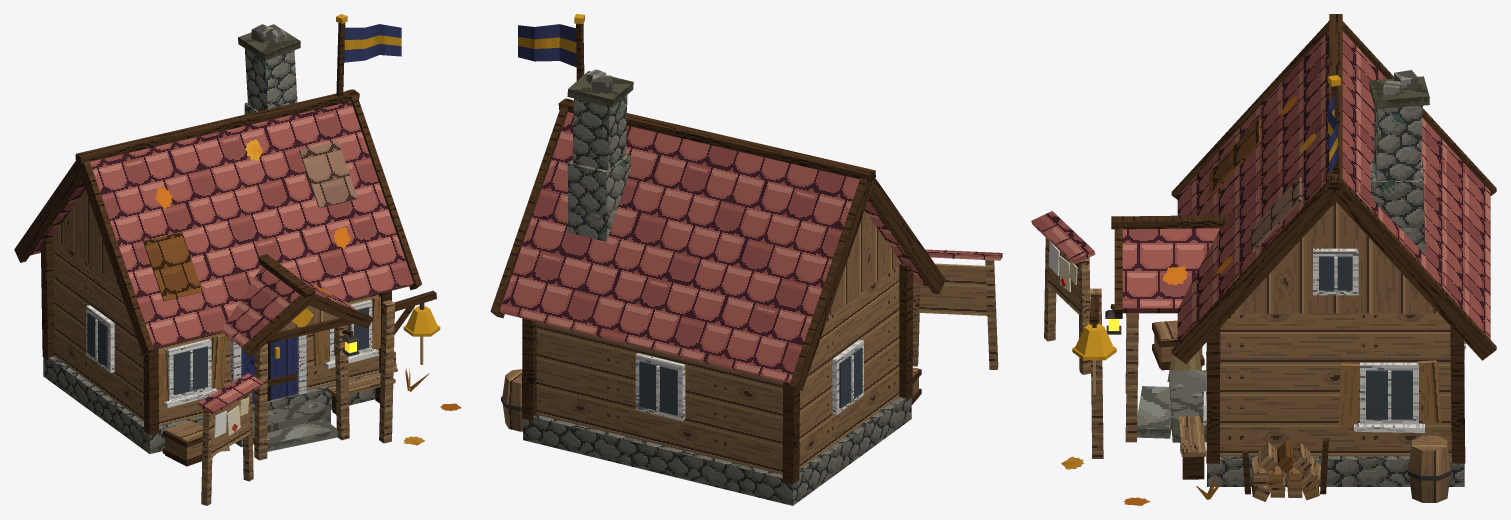
The model's file is town_center_1.glb.
The picture shows the model from 3 angles, left to right: view 1: azimuth 30°, elevation 25°; view 2: azimuth 150°, elevation 25°; view 3: azimuth 270°, elevation 25°; orthographic projection. The views are drawn at different scales.
Parts seen in each view (by area): view 1: town_center_1, sway_flag, sway_bell; view 2: town_center_1, sway_flag; view 3: town_center_1, sway_bell, sway_flag.
Part boxes in pixels (x1,y1,x2,y2): town_center_1: (14, 14, 461, 505); sway_flag: (344, 24, 401, 62); sway_bell: (403, 303, 440, 364); town_center_1: (490, 14, 1002, 505); sway_flag: (518, 24, 576, 67); town_center_1: (1031, 14, 1496, 505); sway_bell: (1072, 323, 1116, 394); sway_flag: (1328, 93, 1337, 174).
Size of the model in its own units: 6.68 by 6.79 by 6.94.
Materials: 34 (20 with a texture image).
